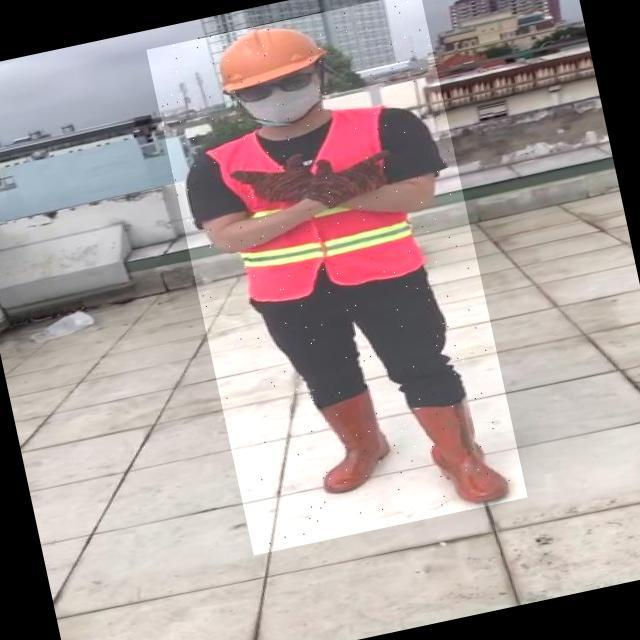Gloves: (232, 151, 322, 211), (313, 147, 395, 207)
Helmet: (198, 10, 338, 97)
Human: (146, 0, 527, 555)
Safety Boot: (412, 392, 510, 512), (307, 389, 399, 496)
Safety Vest: (202, 100, 428, 312)
